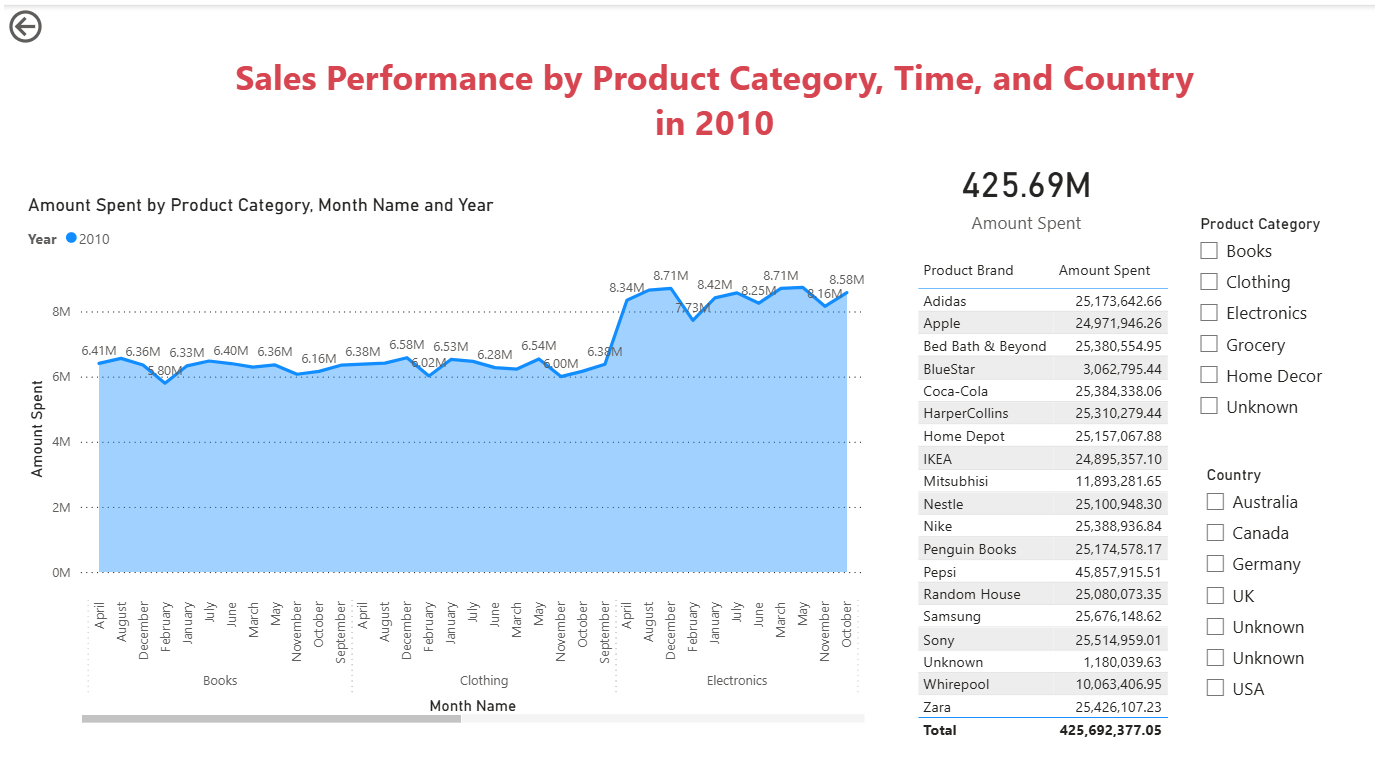

The page's visual inventory and layout, read from the dashboard file:
{"tool":"powerbi","page":{"name":"Page 1","canvas":[1280,720],"ordinal":0},"visuals":[{"type":"slicer","fields":{"Values":["Dim Product.Product Category"]},"box":[1100,189.1,174.3,217.1],"z":0},{"type":"stackedAreaChart","fields":{"Category":["Dim Product.Product Category","Dim Date.Month Name"],"Series":["Dim Date.Year"],"Y":["Fact Transaction.Amount Spent"]},"box":[17.1,175.7,788.6,497.1],"z":1000},{"type":"textbox","box":[195.7,40,931.4,95.7],"z":2000},{"type":"card","fields":{"Values":["Fact Transaction.Amount Spent"]},"box":[843.7,136,214.3,80],"z":3000},{"type":"tableEx","fields":{"Values":["Dim Product.Product Brand","Fact Transaction.Amount Spent"]},"box":[843.7,230.3,252.9,472.9],"z":4000},{"type":"actionButton","box":[0,0,100,40],"z":5000},{"type":"slicer","fields":{"Values":["Dim Customer.Country"]},"box":[1105.7,422.9,168.6,250],"z":6000}]}

Visuals, with their boxes in screenshot pixels (x1, y1, x2, y2), scaled from the page's 1280x720 canvas onto the 1379x776 screenshot:
slicer - Dim Product.Product Category: bbox=[1185, 204, 1373, 438]
stackedAreaChart - Dim Product.Product Category x Dim Date.Month Name: bbox=[18, 189, 868, 725]
textbox: bbox=[211, 43, 1214, 146]
card - Fact Transaction.Amount Spent: bbox=[909, 147, 1140, 233]
tableEx - Dim Product.Product Brand x Fact Transaction.Amount Spent: bbox=[909, 248, 1181, 758]
actionButton: bbox=[0, 0, 108, 43]
slicer - Dim Customer.Country: bbox=[1191, 456, 1373, 725]
